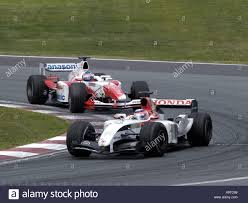FormulaOneCar: (65, 96, 215, 160), (25, 56, 155, 112)
